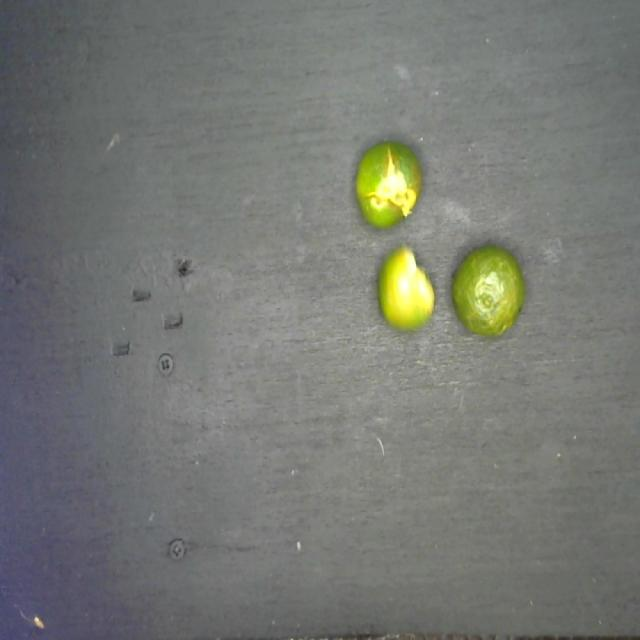biodegradable: (339, 136, 533, 346)
